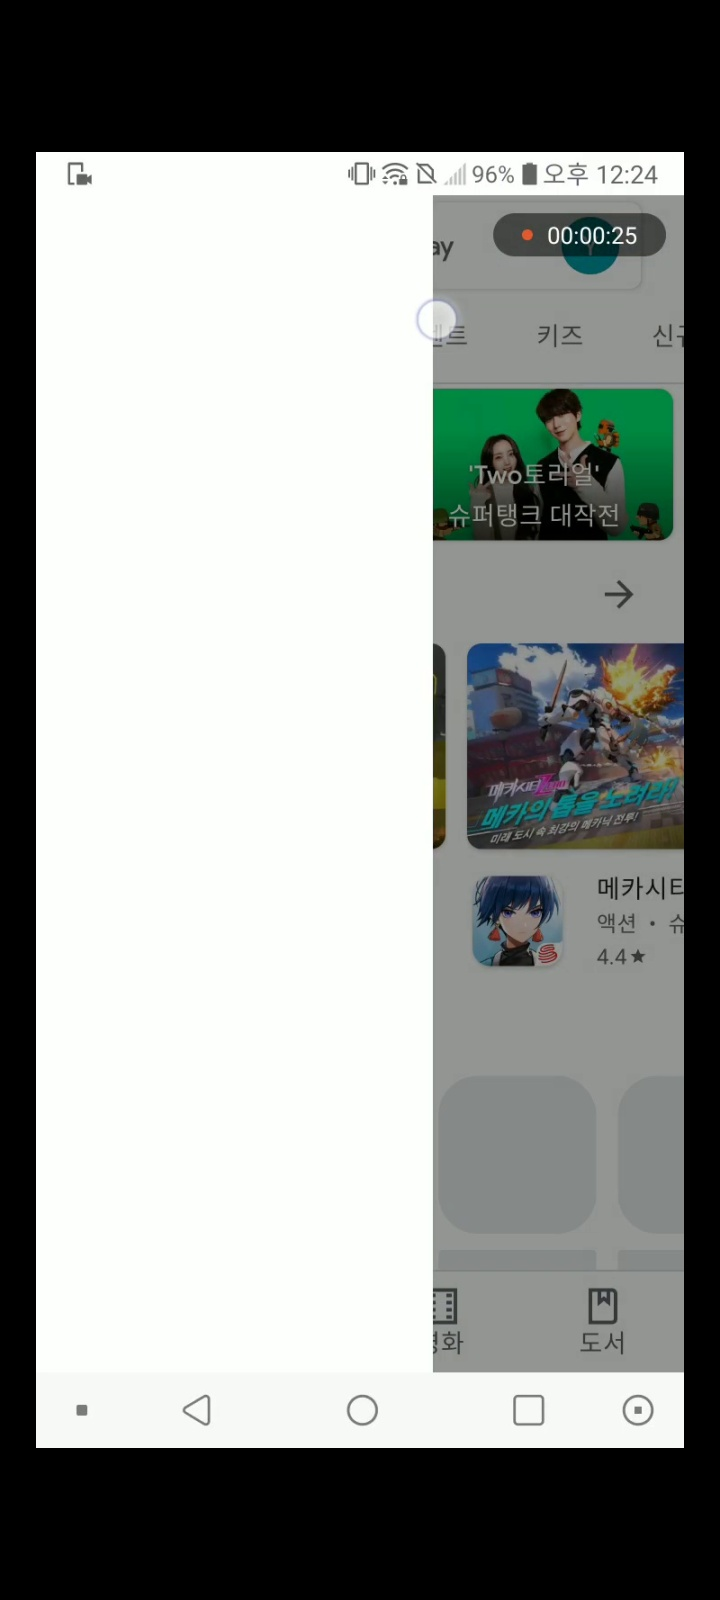Cursor: (415, 298, 460, 343)
